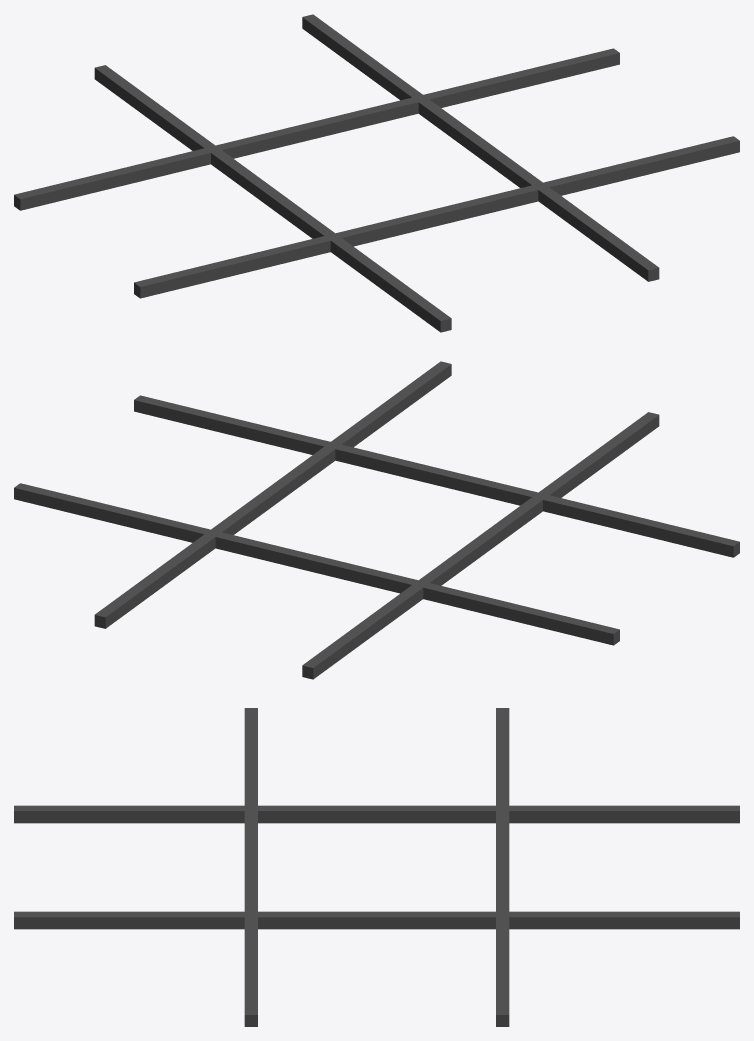
Rendered from sharp.obj.
The picture shows the model from 3 angles, top to bottom: view 1: azimuth 30°, elevation 25°; view 2: azimuth 150°, elevation 25°; view 3: azimuth 270°, elevation 25°; orthographic projection. The views are drawn at different scales.
Parts seen in each view (by area): view 1: Cube.001; view 2: Cube.001; view 3: Cube.001.
Part boxes in pixels (x1,y1,x2,y2): Cube.001: [14, 14, 739, 332]; Cube.001: [14, 361, 739, 679]; Cube.001: [14, 708, 739, 1026].
Bounding box in the file's own units: 5.77 × 0.1056 × 5.77.
